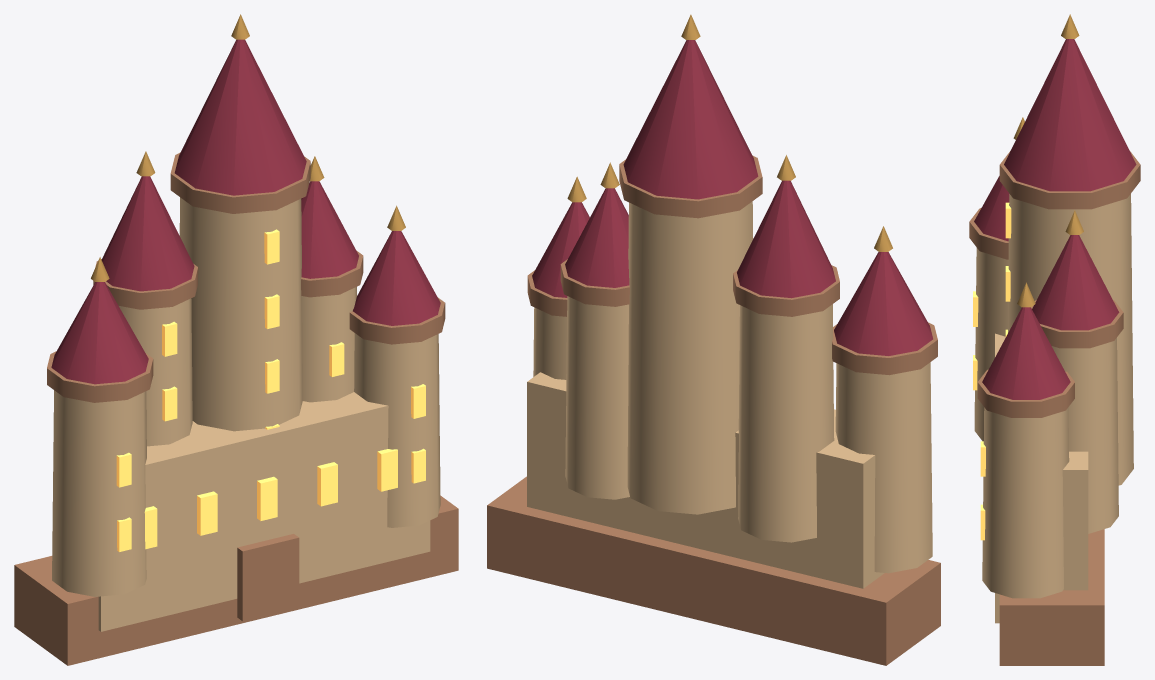
File: castle.glb
3 views of the same model, side by side, from view 1: azimuth 30°, elevation 25°; view 2: azimuth 150°, elevation 25°; view 3: azimuth 270°, elevation 25° (orthographic). The views are drawn at different scales.
Bounding box in the file's own units: 0.7612 × 1.07 × 0.2933.
